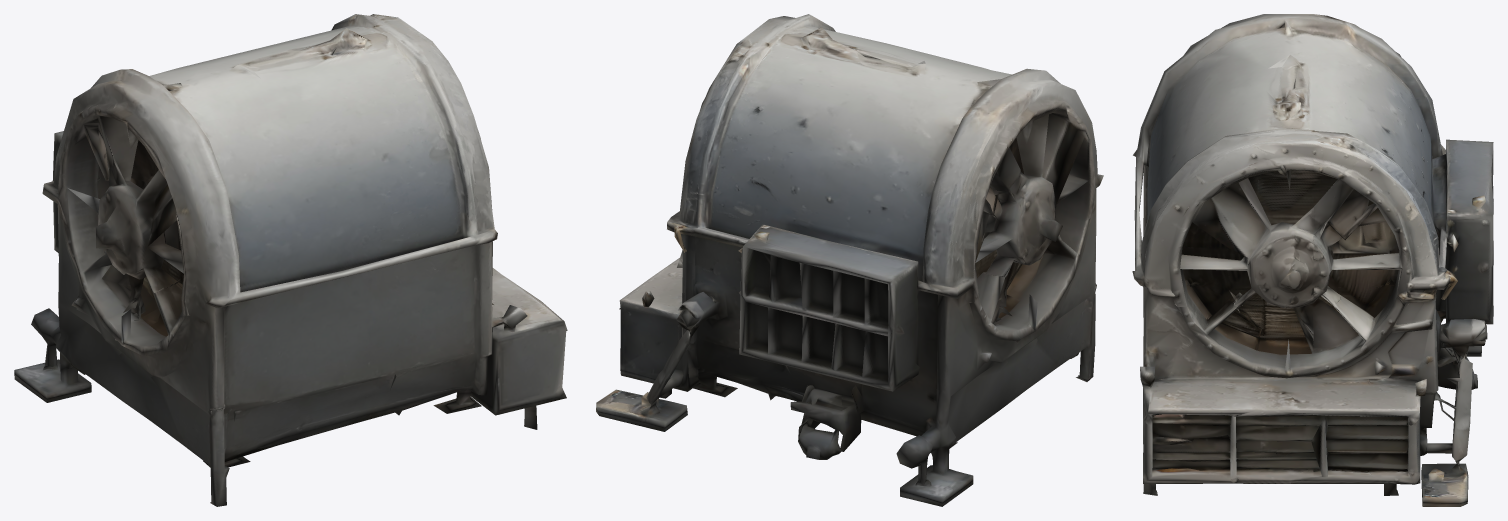
File: fan_unit.glb
3 views of the same model, side by side, from view 1: azimuth 30°, elevation 25°; view 2: azimuth 150°, elevation 25°; view 3: azimuth 270°, elevation 25° (orthographic). The views are drawn at different scales.
Parts seen in each view (by area): view 1: tripo_node_bba8953d-0ca5-4f47-b975-ea0415eaf2e4; view 2: tripo_node_bba8953d-0ca5-4f47-b975-ea0415eaf2e4; view 3: tripo_node_bba8953d-0ca5-4f47-b975-ea0415eaf2e4.
Part boxes in pixels (box(x1,y1,x2,y2)): tripo_node_bba8953d-0ca5-4f47-b975-ea0415eaf2e4: box(14, 14, 567, 506); tripo_node_bba8953d-0ca5-4f47-b975-ea0415eaf2e4: box(596, 14, 1103, 506); tripo_node_bba8953d-0ca5-4f47-b975-ea0415eaf2e4: box(1132, 14, 1493, 506).
Size of the model in its own units: 0.9802 by 0.8724 by 0.8329.
Materials: 1 (1 with a texture image).
